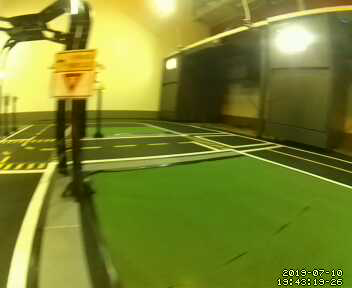Turn Yield: (48, 52, 98, 99)
